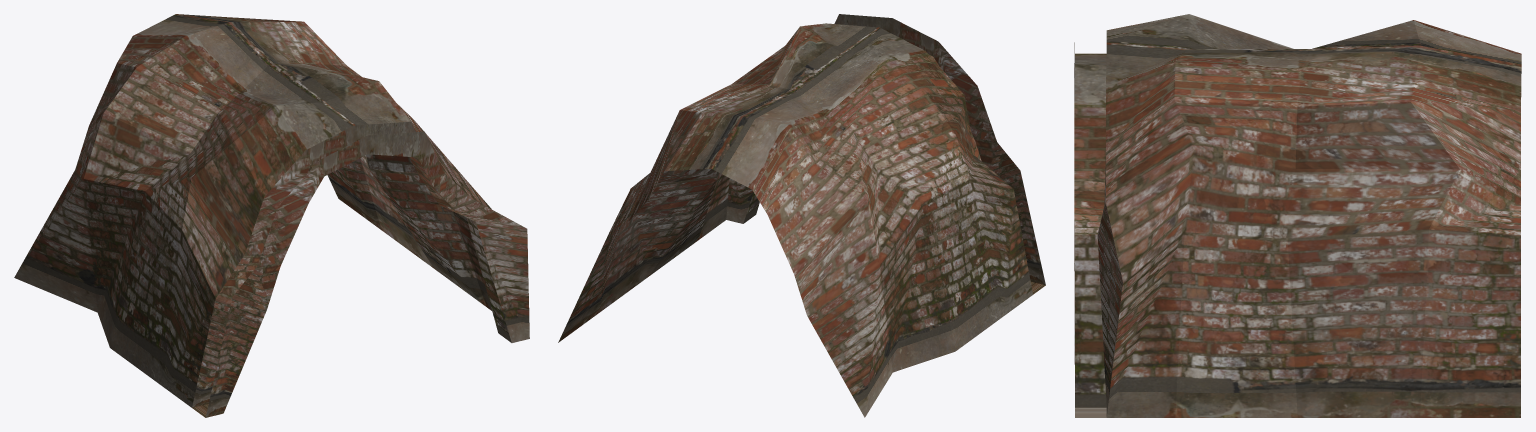
The model's file is tunnel_Wall4_Deformed_GEO.fbx.
The picture shows the model from 3 angles, left to right: view 1: azimuth 30°, elevation 25°; view 2: azimuth 150°, elevation 25°; view 3: azimuth 270°, elevation 25°; orthographic projection. The views are drawn at different scales.
Visible parts, largest first — view 1: tunnel_Wall4_Deformed_GEO; view 2: tunnel_Wall4_Deformed_GEO; view 3: tunnel_Wall4_Deformed_GEO.
Boxes of the visible parts, left/top/right/bottom form: tunnel_Wall4_Deformed_GEO: left=14, top=14, right=529, bottom=417; tunnel_Wall4_Deformed_GEO: left=558, top=14, right=1045, bottom=417; tunnel_Wall4_Deformed_GEO: left=1074, top=14, right=1521, bottom=417.
Bounding box in the file's own units: 5 × 3.72 × 5.13.
